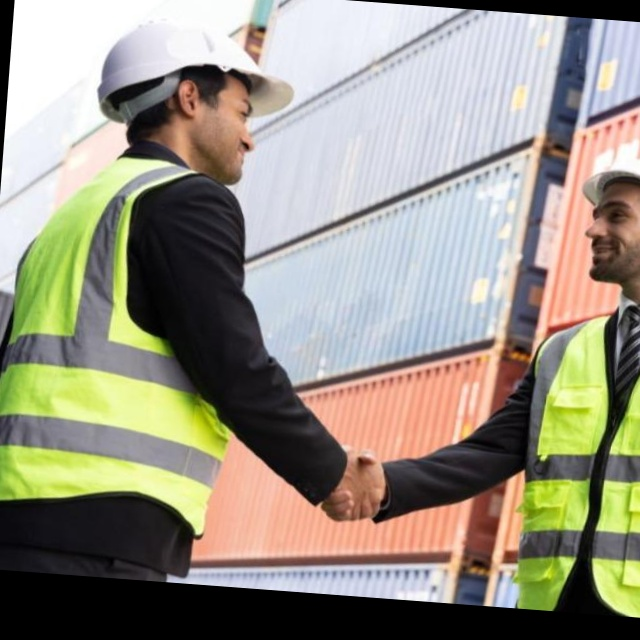Con_Casco: (95, 13, 301, 185), (575, 148, 640, 297)
Con_Chaleco: (0, 142, 261, 542), (505, 305, 640, 619)
